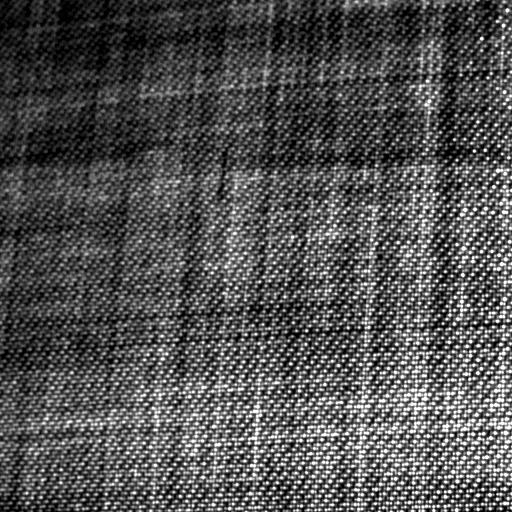fabric_perfect: (2, 2, 512, 508)
